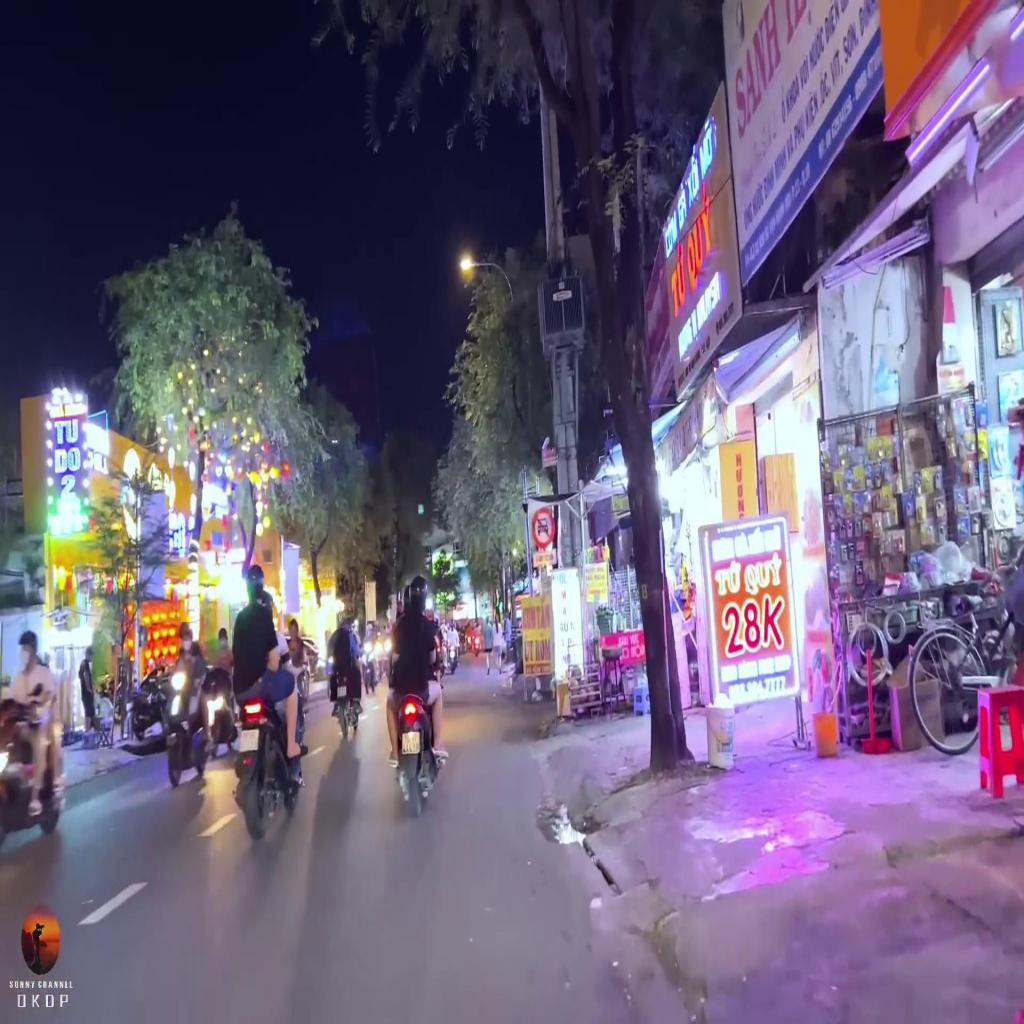cam_o_to: (531, 505, 556, 548)
khac: (532, 548, 558, 568)
